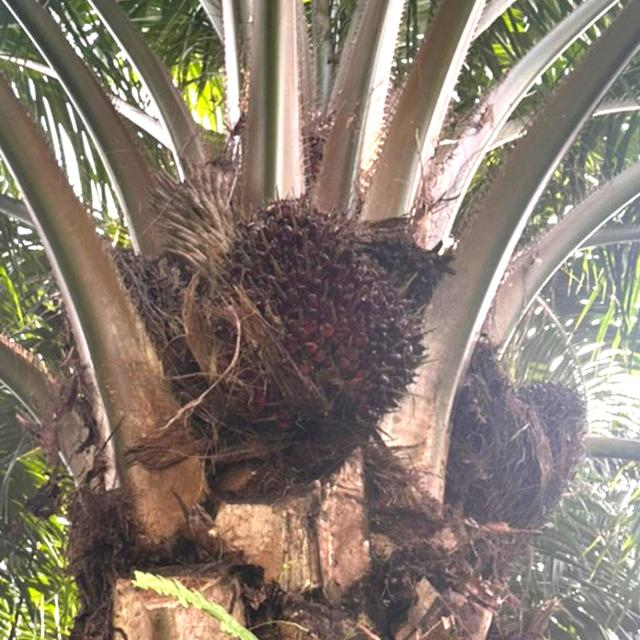ripe: (181, 187, 437, 442)
